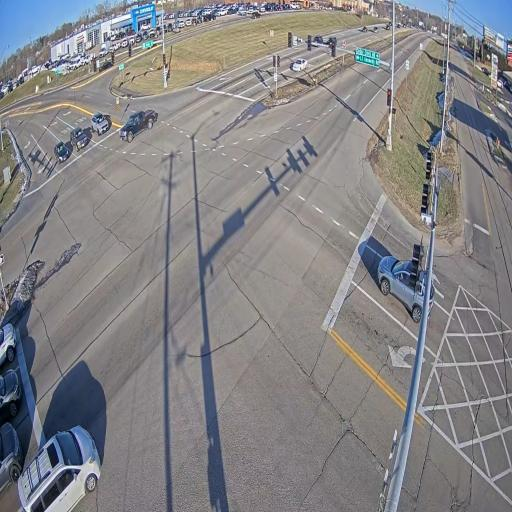pickup: (120, 110, 158, 142), (70, 128, 87, 152)
sedan: (54, 141, 69, 162), (293, 58, 307, 72), (374, 26, 378, 32)
suv: (377, 255, 426, 323), (0, 423, 23, 492), (0, 369, 21, 418), (0, 323, 17, 366), (91, 112, 109, 136), (428, 283, 436, 318), (312, 35, 323, 46), (327, 37, 337, 46), (362, 26, 367, 32), (386, 23, 390, 30), (397, 23, 400, 27)
van: (17, 425, 101, 512)
